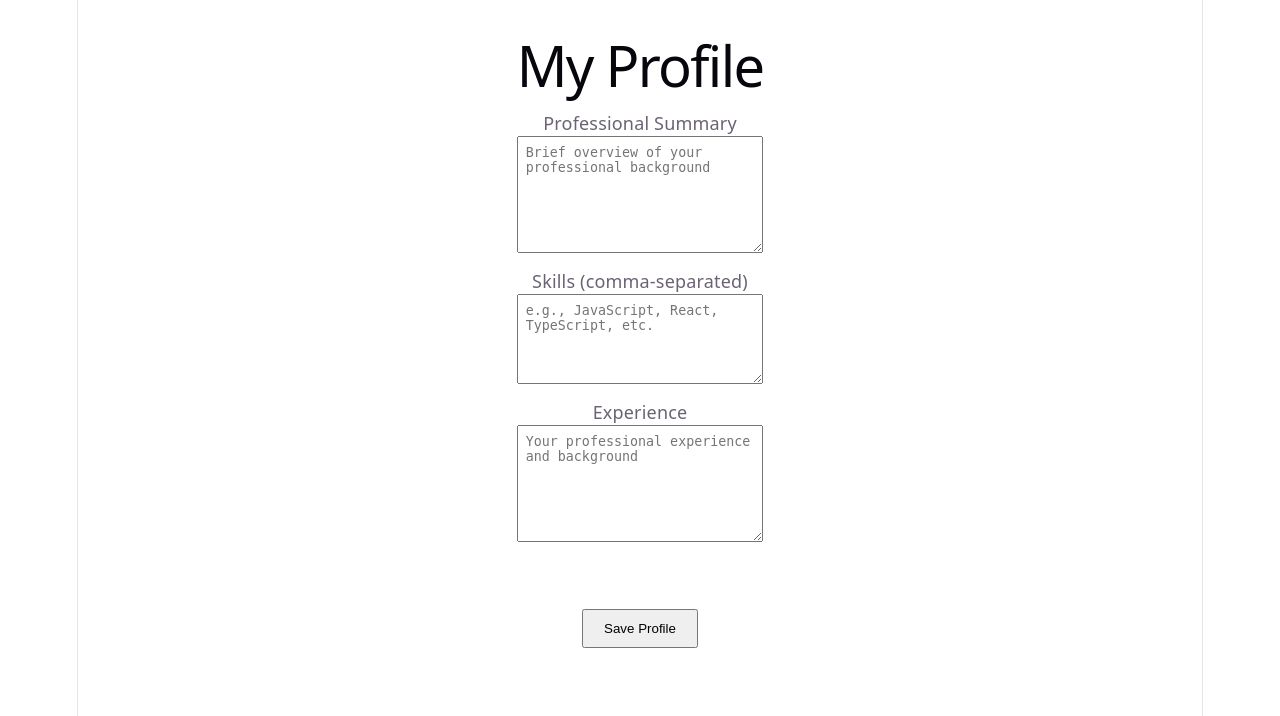
Test: page action feedback › keeps a null initial profile empty and reports the first saved profile
Expected: the text box labelled "Skills (comma-separated)" is empty, left=517, top=294, right=763, bottom=384
Expected: the text box labelled "Experience" is empty, left=517, top=425, right=763, bottom=542
In the text box labelled "Professional Summary": (640, 195) left=517, top=136, right=763, bottom=253, type "New summary"
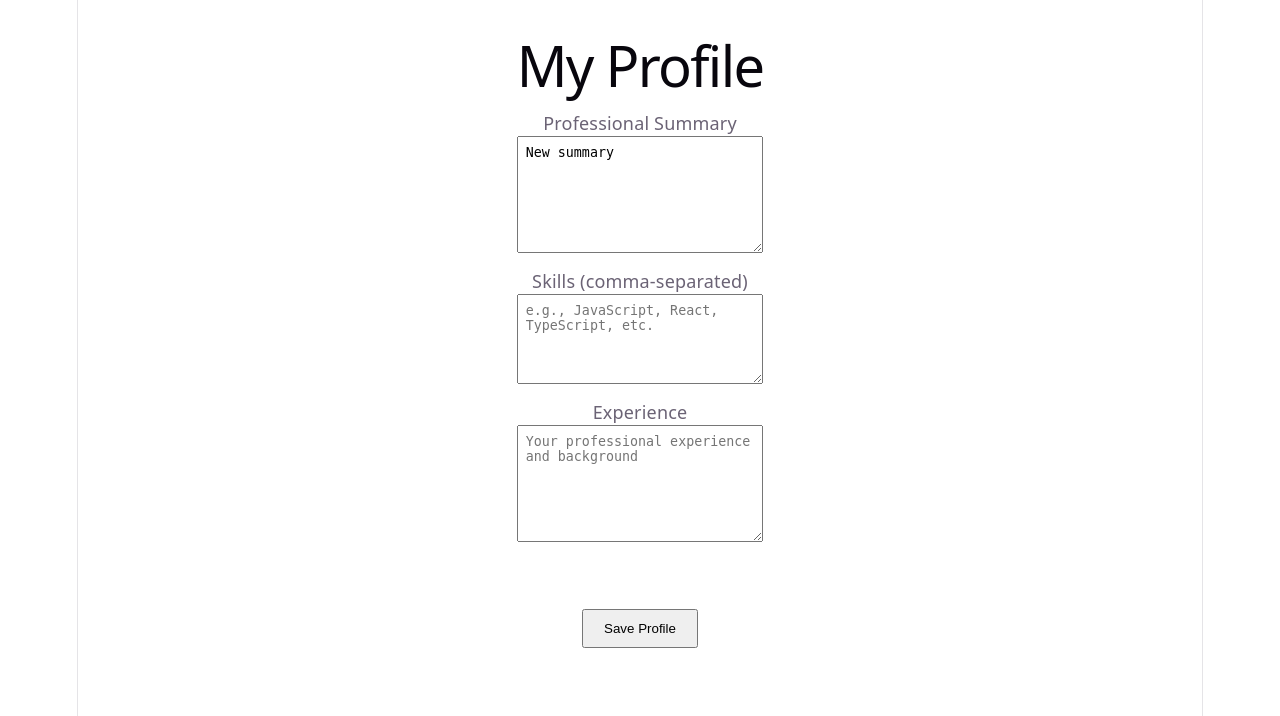
In the text box labelled "Skills (comma-separated)": (640, 339) left=517, top=294, right=763, bottom=384, type "Skills"
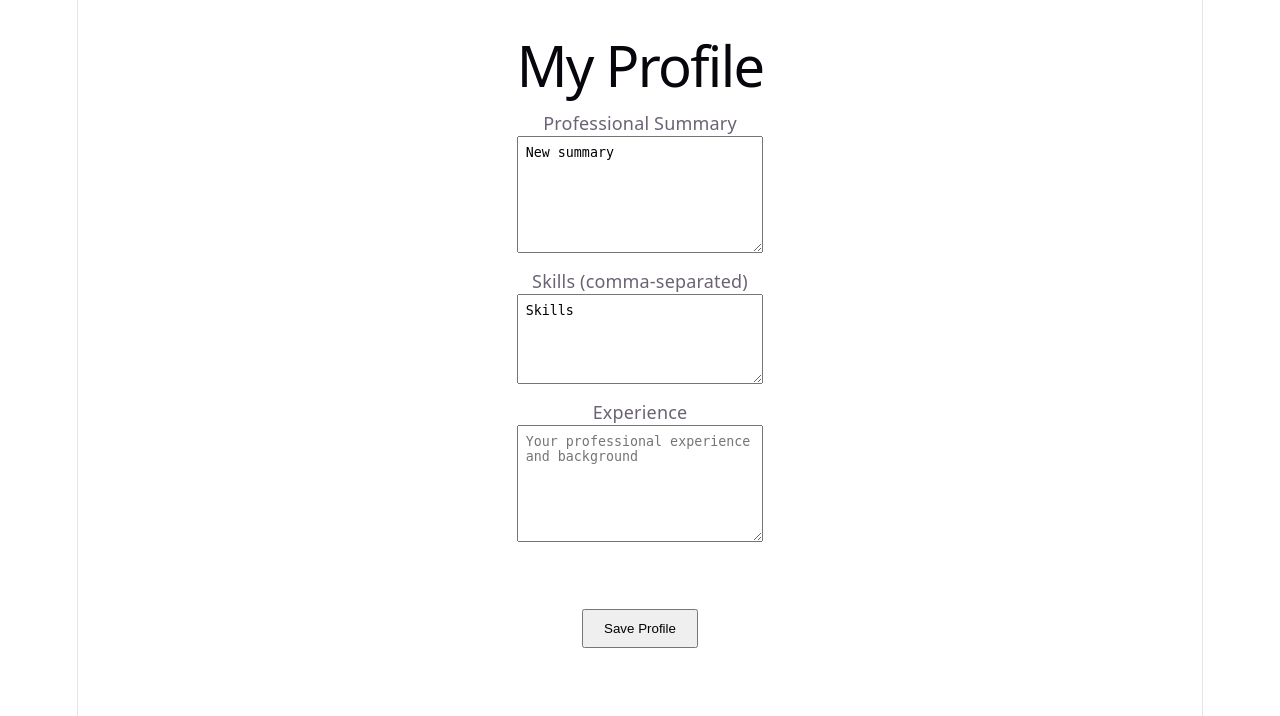
In the text box labelled "Experience": (640, 484) left=517, top=425, right=763, bottom=542, type "Experience"
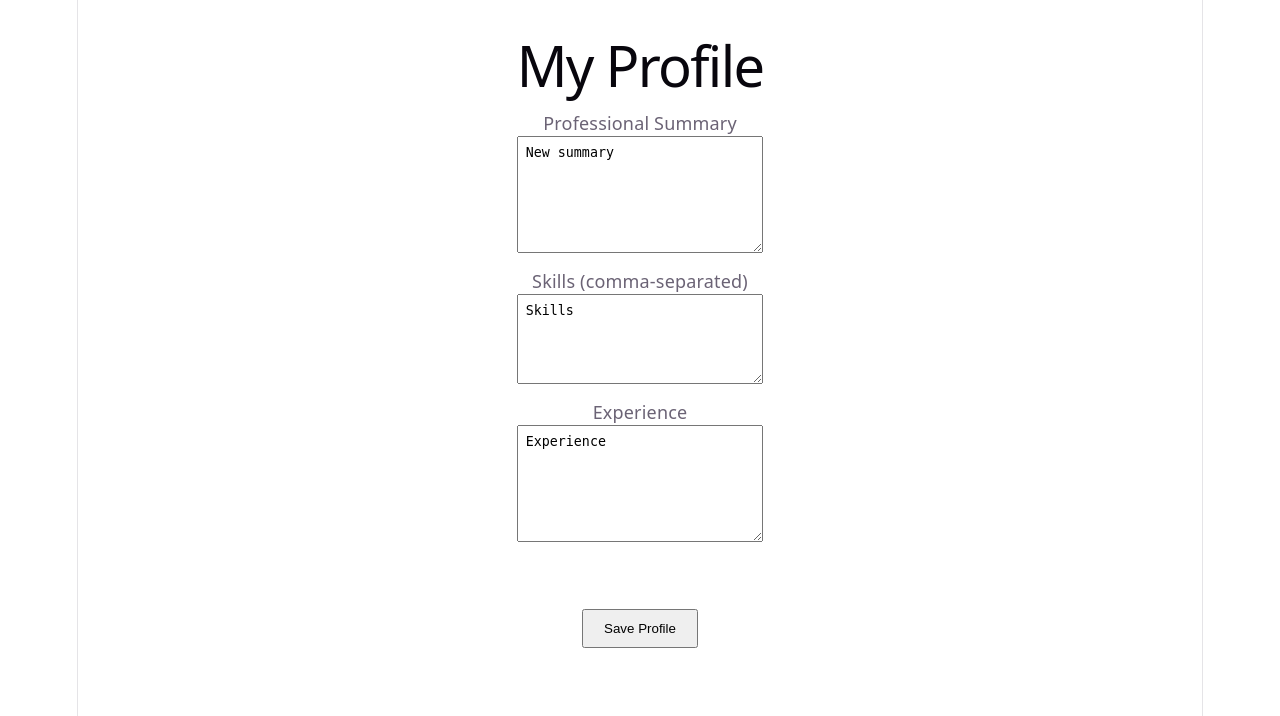
Click the button "Save Profile": (640, 629) left=582, top=609, right=698, bottom=648
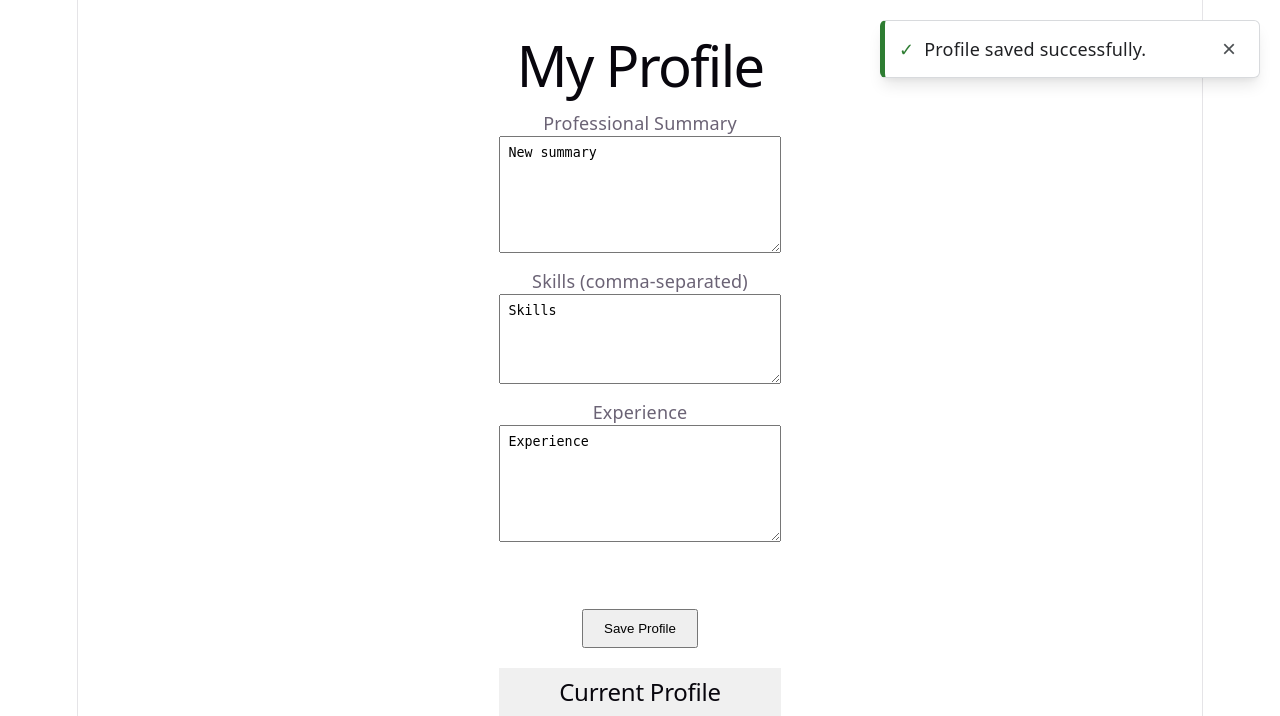
Now the text "Profile saved successfully." is shown, box left=924, top=37, right=1146, bottom=61
